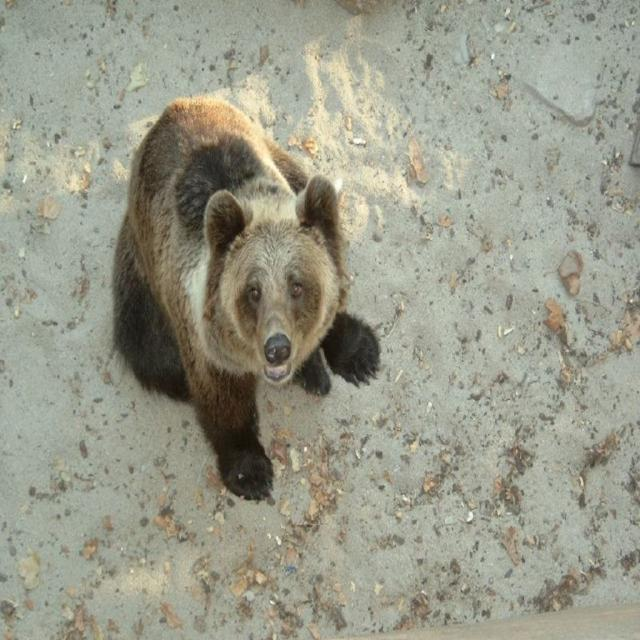Cheetahs: (108, 93, 378, 497)
